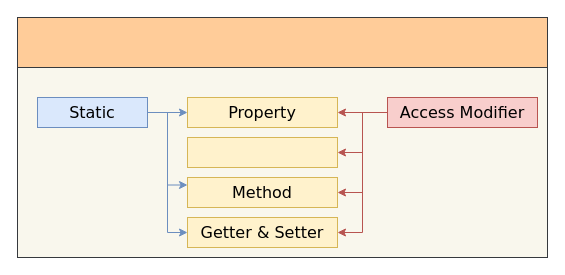
Image size: 565x275. Some labels were removed from this diagram. Each missing label, with the centre of its shape:
"Class" belongs at (282,42).
"Constructor" belongs at (262,152).
